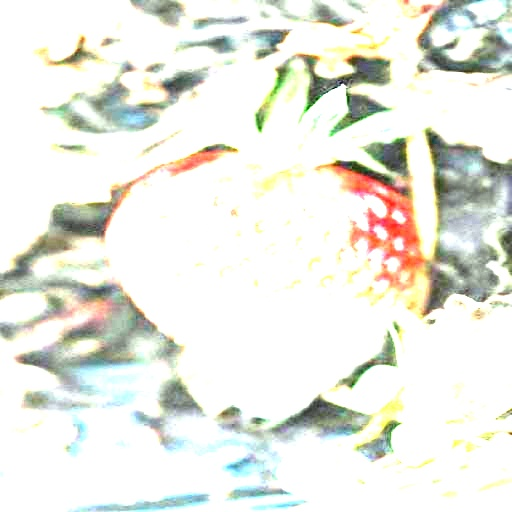Gray Mold: (128, 278, 419, 418)
